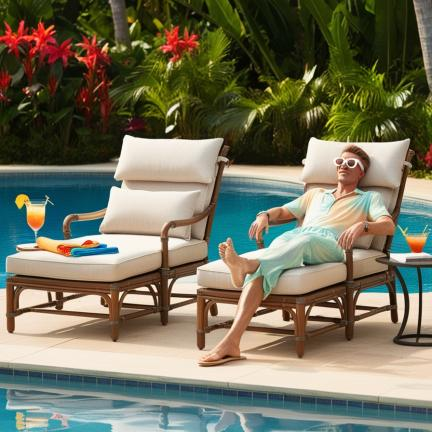guest on chair: (197, 138, 413, 367)
occupied chair: (6, 136, 229, 340), (15, 195, 50, 235)
